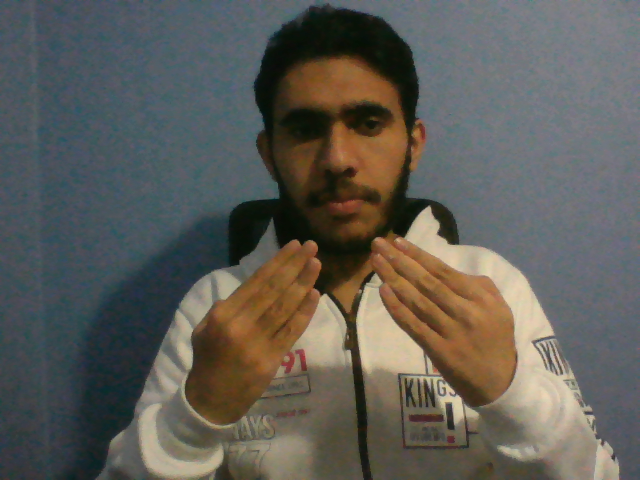thanks: (179, 226, 526, 437)
